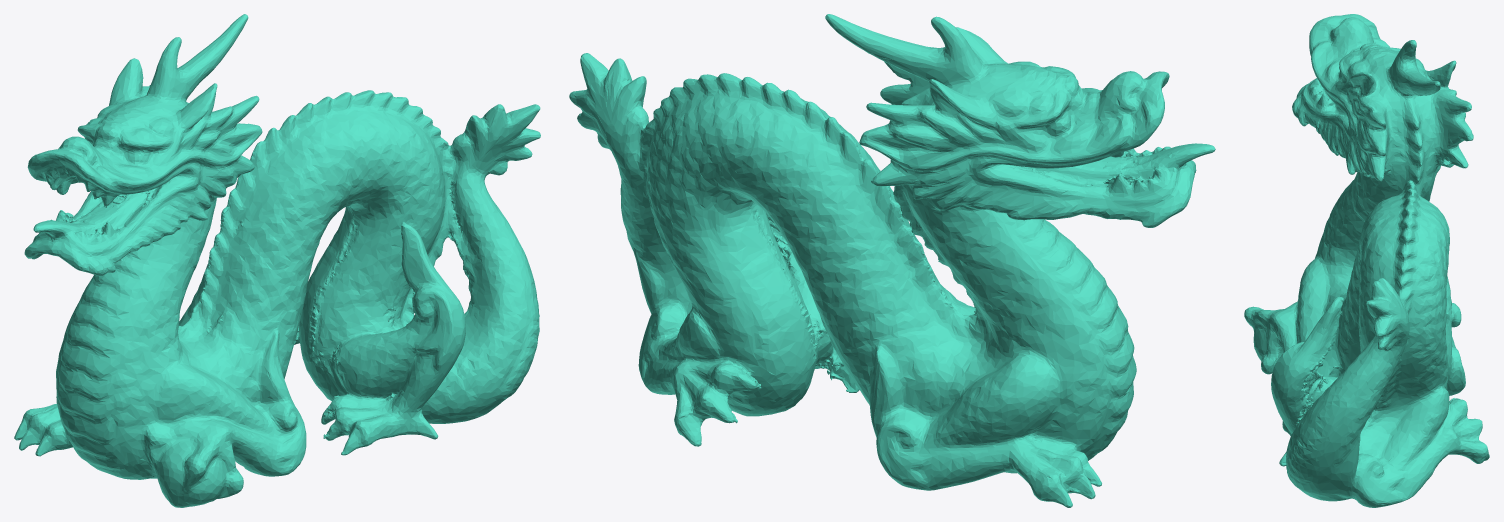
File: dragon.fbx
3 views of the same model, side by side, from view 1: azimuth 30°, elevation 25°; view 2: azimuth 150°, elevation 25°; view 3: azimuth 270°, elevation 25° (orthographic). The views are drawn at different scales.
Parts seen in each view (by area): view 1: default; view 2: default; view 3: default.
Part boxes in pixels (x1,y1,x2,y2): default: [14, 14, 540, 507]; default: [569, 14, 1215, 507]; default: [1244, 14, 1489, 507].
Size of the model in its own units: 14.09 by 9.94 by 6.3.
